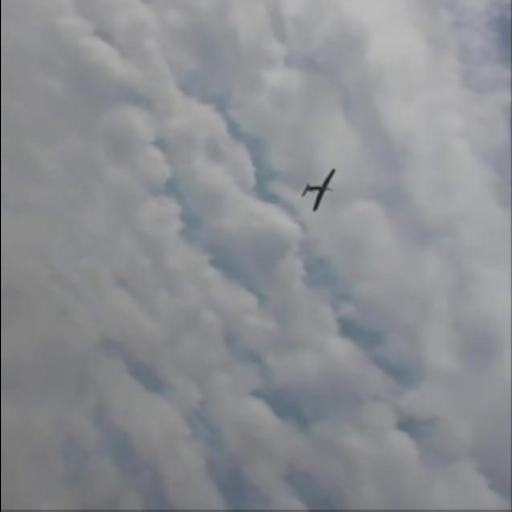uav: (304, 169, 338, 214)
